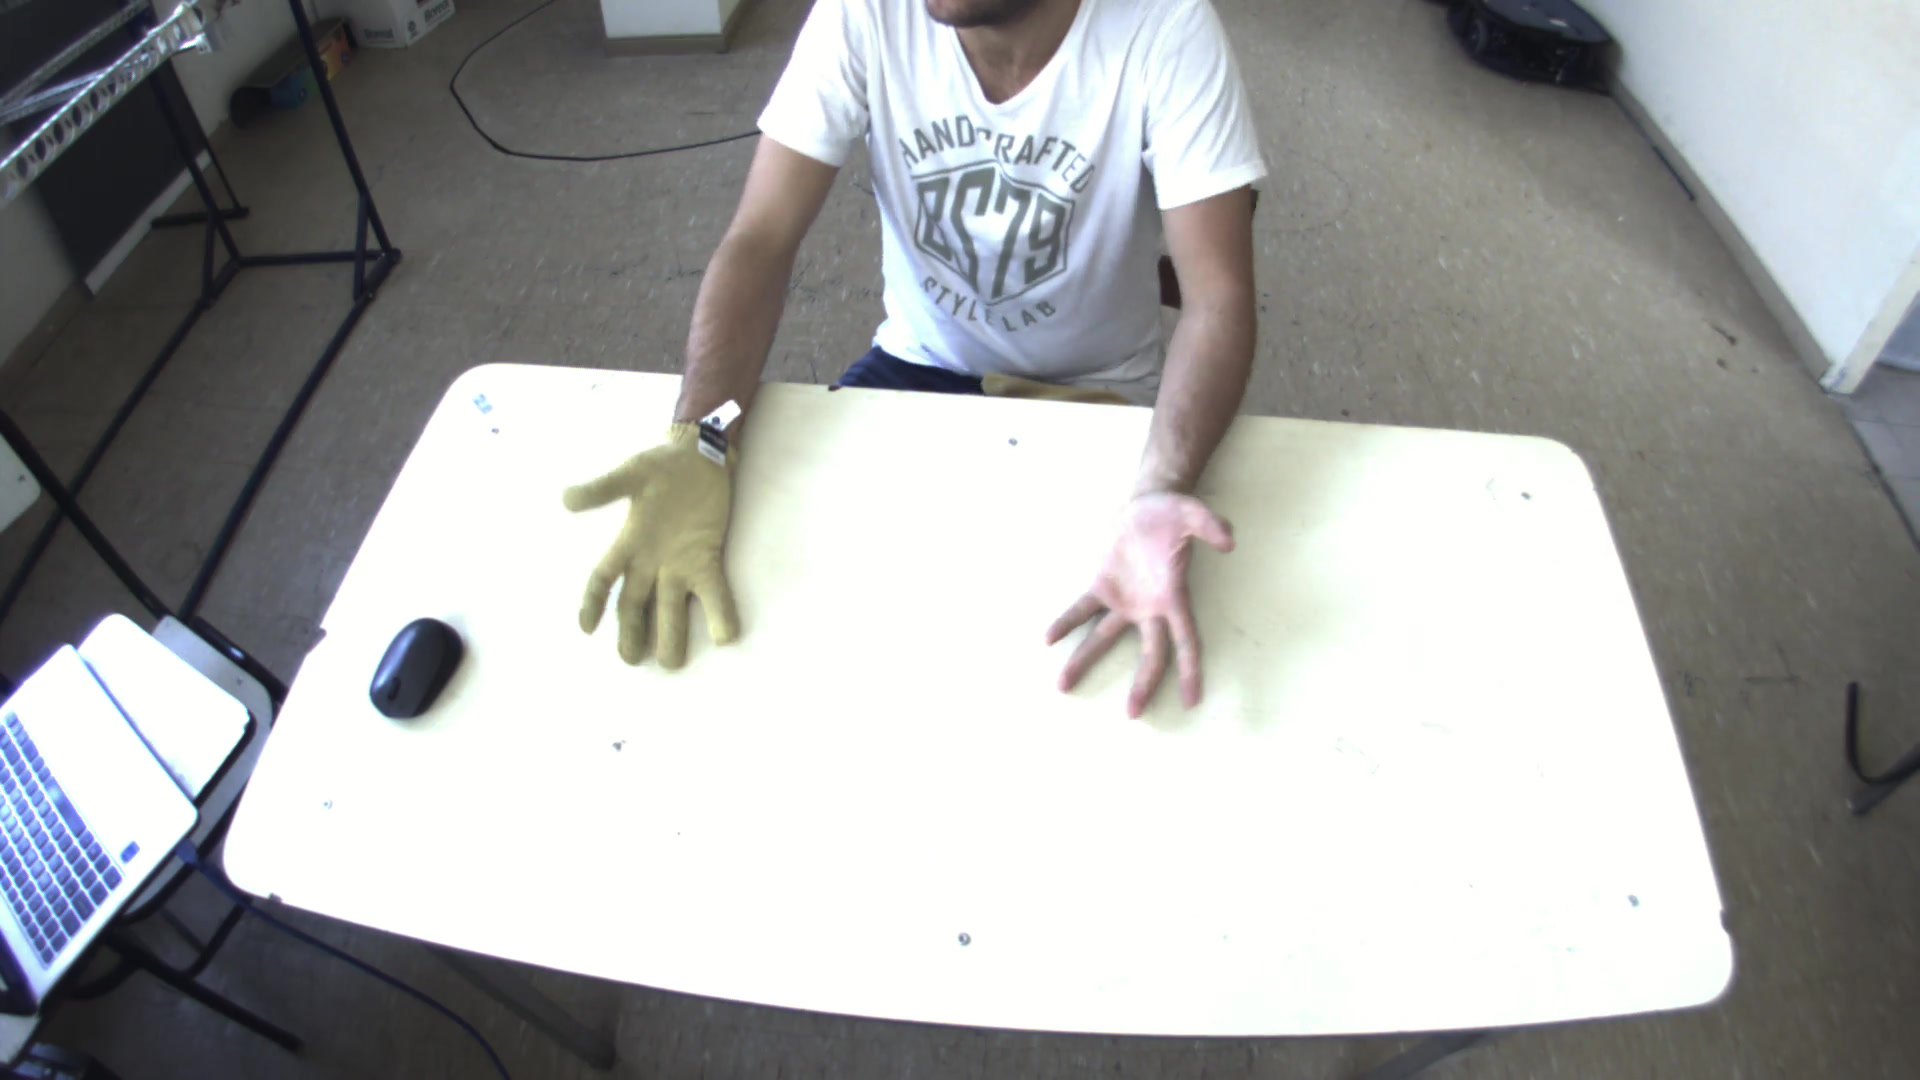hand: (1034, 475, 1251, 733), (549, 407, 752, 680)
